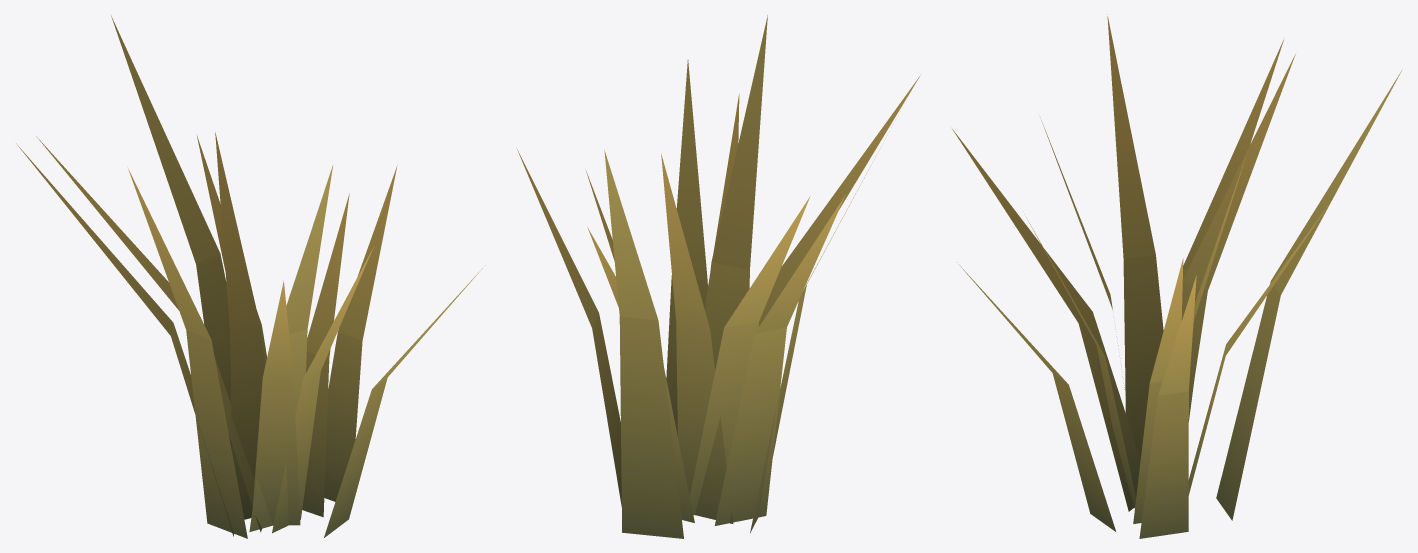
The model's file is grass_tall_lod1.glb.
3 renders of one model, left to right at view 1: azimuth 30°, elevation 25°; view 2: azimuth 150°, elevation 25°; view 3: azimuth 270°, elevation 25°, orthographic. The views are drawn at different scales.
Parts seen in each view (by area): view 1: grass_tall_lod1; view 2: grass_tall_lod1; view 3: grass_tall_lod1.
Part boxes in pixels (x1,y1,x2,y2): grass_tall_lod1: (16,15,485,538); grass_tall_lod1: (517,15,920,538); grass_tall_lod1: (952,14,1401,538).
Size of the model in its own units: 0.7808 by 0.9301 by 0.9109.
